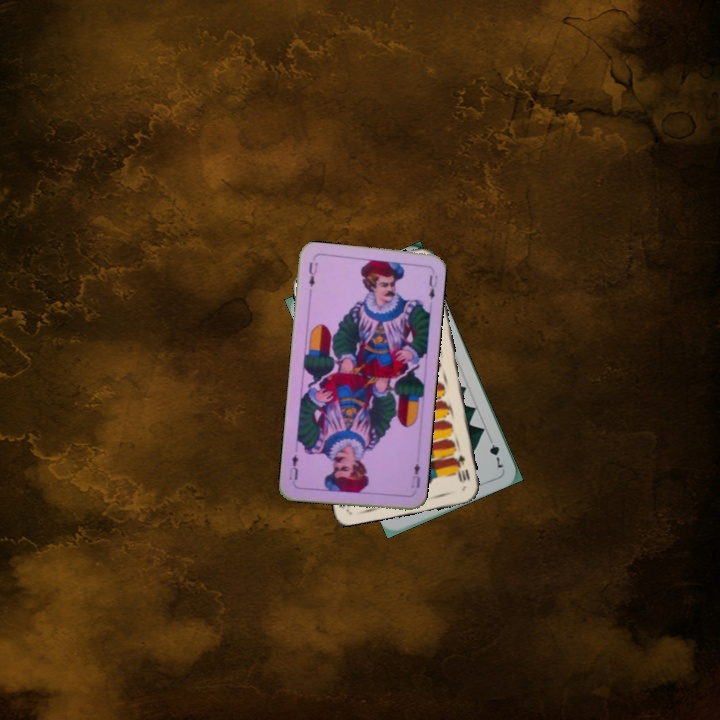E10: (450, 451, 472, 486)
EU: (304, 258, 321, 289), (407, 459, 423, 491)
G7: (485, 433, 506, 471)
